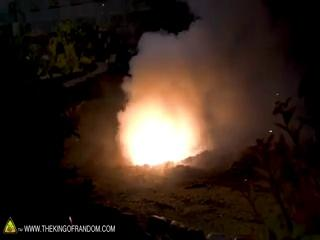Fire: (118, 92, 206, 170)
